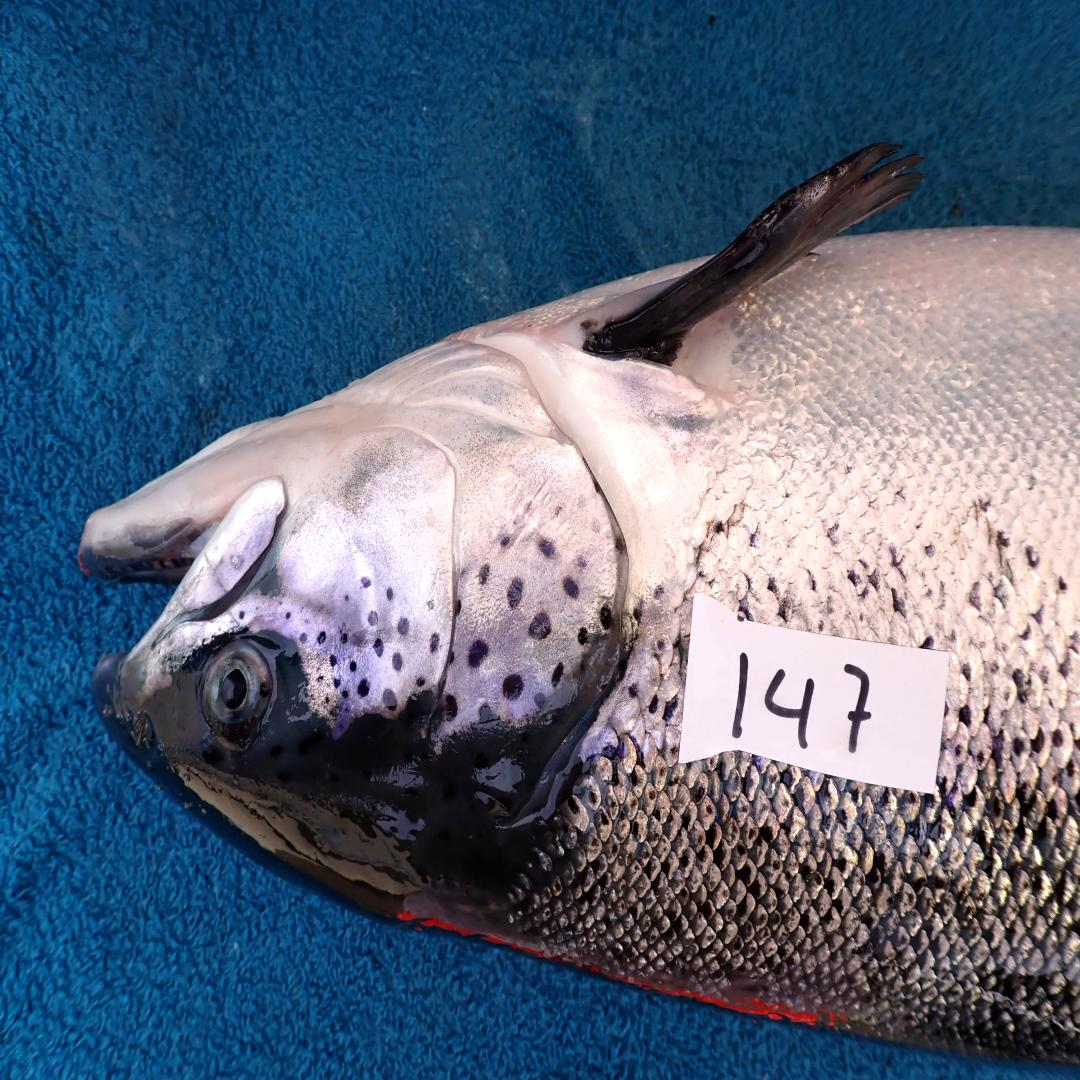roi: (284, 331, 624, 745)
